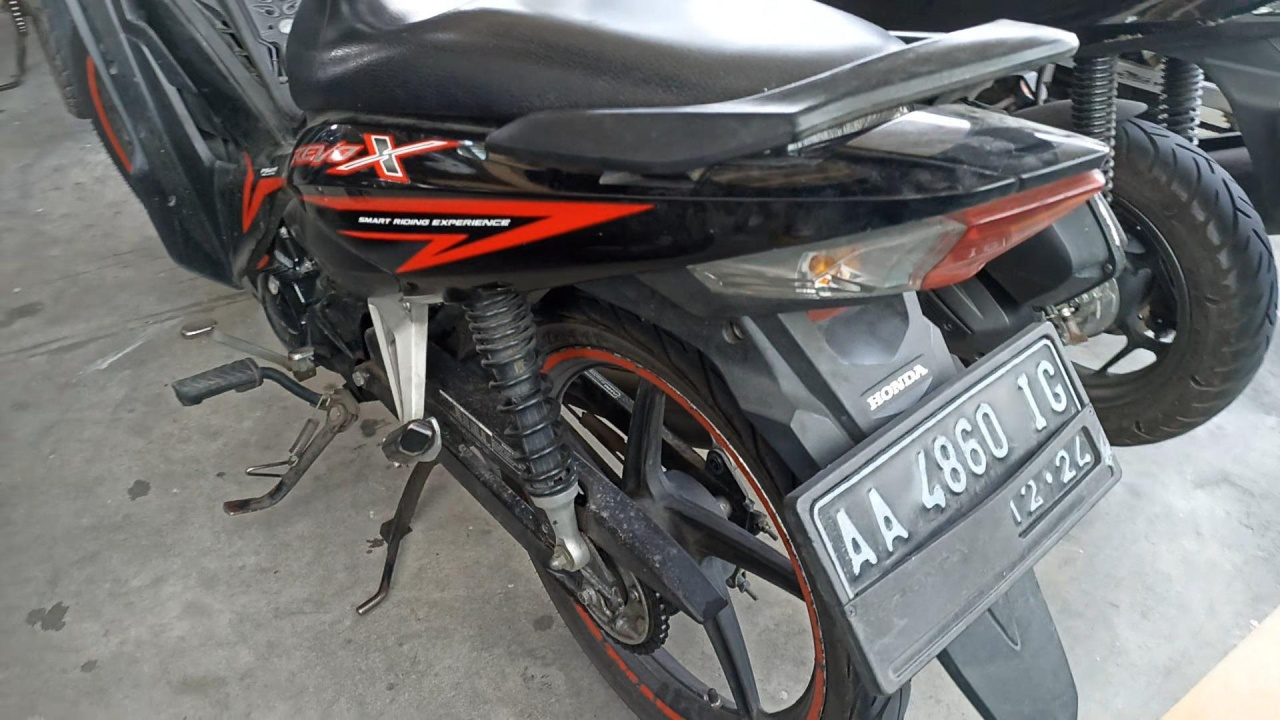plate: (804, 332, 1119, 691)
